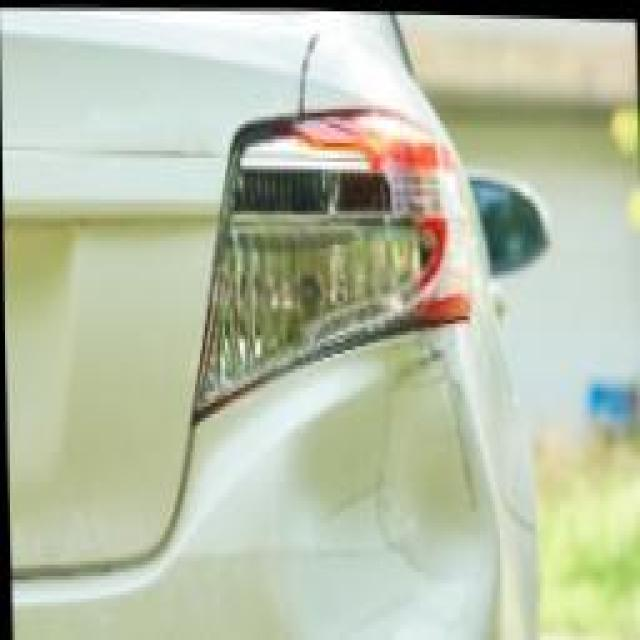Bumper: (360, 328, 495, 587)
Light: (205, 109, 455, 342)
